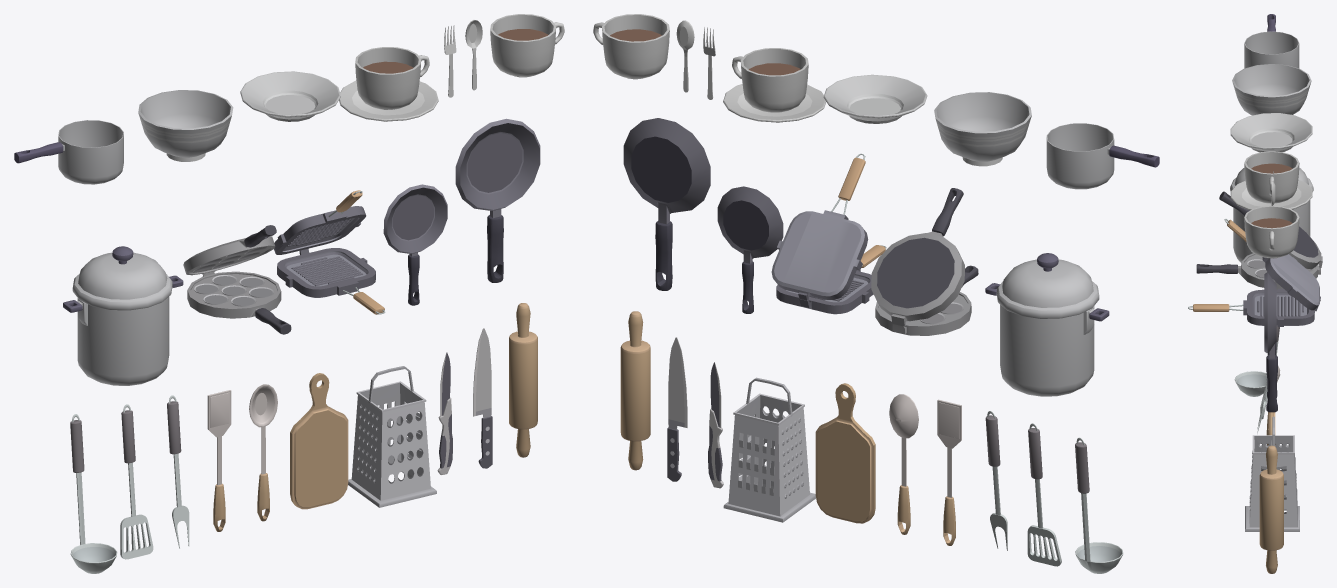
File: kitchen_appliances.glb
The picture shows the model from 3 angles, left to right: view 1: azimuth 30°, elevation 25°; view 2: azimuth 150°, elevation 25°; view 3: azimuth 270°, elevation 25°; orthographic projection. The views are drawn at different scales.
Parts seen in each view (by area): view 1: Big frying pan__0; view 2: Big frying pan__0; view 3: Big frying pan__0.
Boxes of the visible parts, x1,y1,x2,y2 form: Big frying pan__0: [14, 14, 564, 573]; Big frying pan__0: [593, 14, 1159, 573]; Big frying pan__0: [1188, 14, 1322, 573].
Size of the model in its own units: 5.06 by 3.98 by 1.3.
